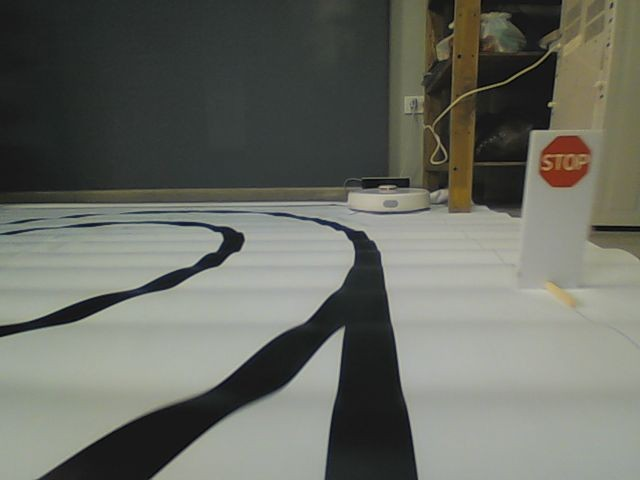Stop: (537, 132, 593, 188)
